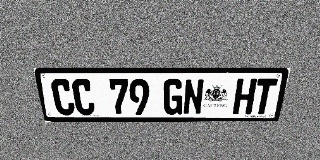7: (108, 79, 130, 115)
9: (129, 79, 149, 115)
C: (50, 79, 76, 115), (71, 79, 96, 115)
G: (163, 79, 184, 115)
H: (232, 79, 257, 114)
N: (183, 79, 205, 115)
T: (252, 79, 278, 114)
